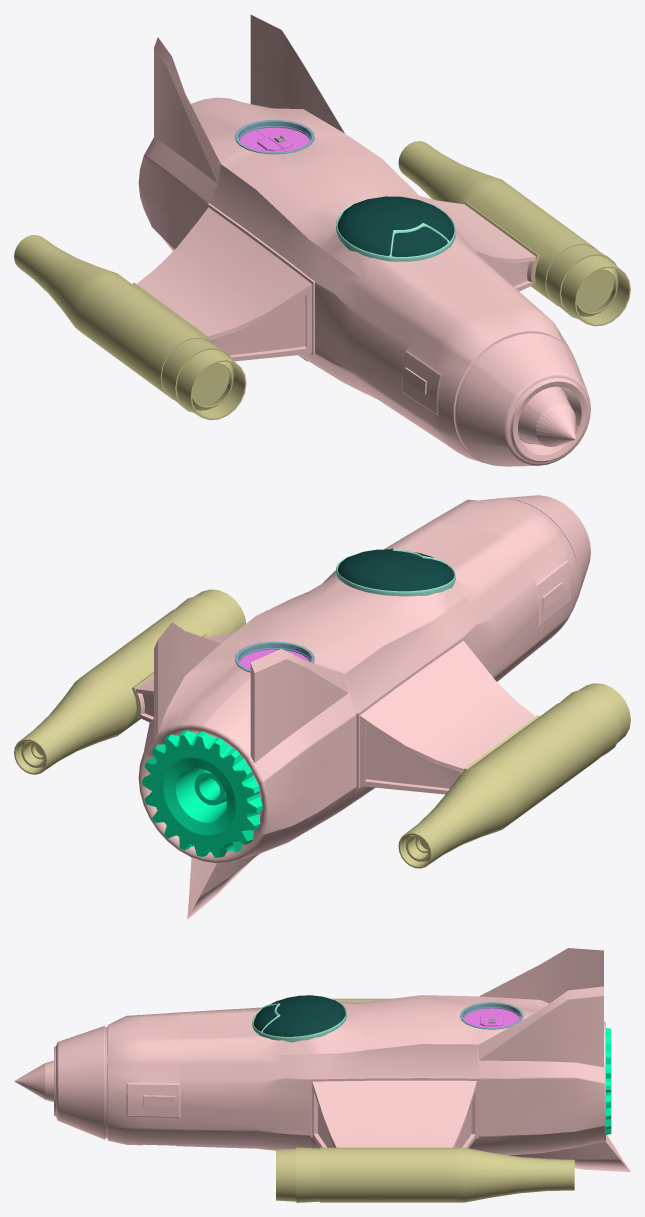
The model's file is Space-Ship.fbx.
3 views of the same model, one above another, from view 1: azimuth 30°, elevation 25°; view 2: azimuth 150°, elevation 25°; view 3: azimuth 270°, elevation 25° (orthographic). The views are drawn at different scales.
Parts seen in each view (by area): view 1: Ship_Main, Ship_Side, Roof, Roof_Edge, In_Ship, OutDoor_1_Main; view 2: Ship_Main, Ship_Side, Ship_Engine, Roof, Roof_Edge, In_Ship; view 3: Ship_Main, Ship_Side, Roof, Roof_Edge, Ship_Engine, In_Ship, OutDoor_2_Main.
Part boxes in pixels (x1,y1,x2,y2): Ship_Main: (137, 15, 590, 466); Ship_Side: (14, 141, 630, 420); Roof: (337, 196, 454, 256); Roof_Edge: (336, 197, 455, 261); In_Ship: (235, 119, 314, 154); OutDoor_1_Main: (256, 127, 309, 151); Ship_Main: (135, 495, 590, 919); Ship_Side: (14, 589, 630, 868); Ship_Engine: (142, 730, 262, 857); Roof: (338, 549, 453, 591); Roof_Edge: (336, 548, 455, 596); In_Ship: (235, 641, 314, 672); Ship_Main: (14, 948, 630, 1171); Ship_Side: (276, 998, 574, 1202); Roof: (253, 995, 345, 1036); Roof_Edge: (252, 997, 346, 1042); Ship_Engine: (606, 1028, 611, 1134); In_Ship: (460, 1002, 523, 1029); OutDoor_2_Main: (464, 1008, 519, 1021).
Size of the model in its own units: 133 by 73.27 by 201.
